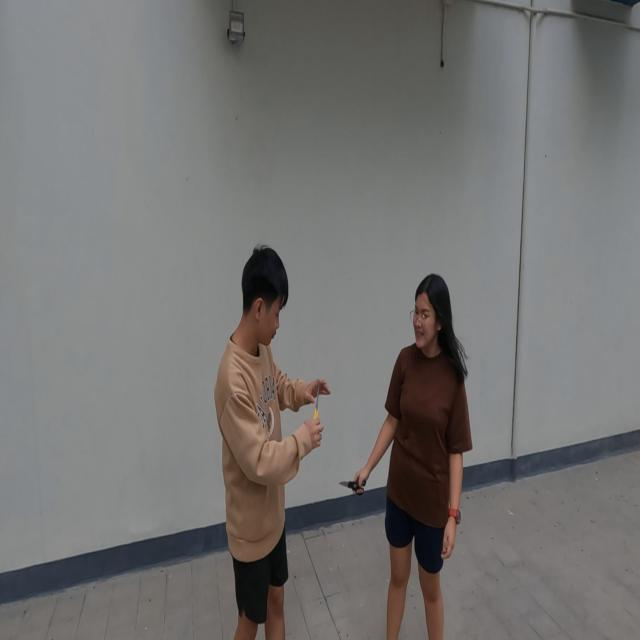scissor: (338, 476, 367, 496)
